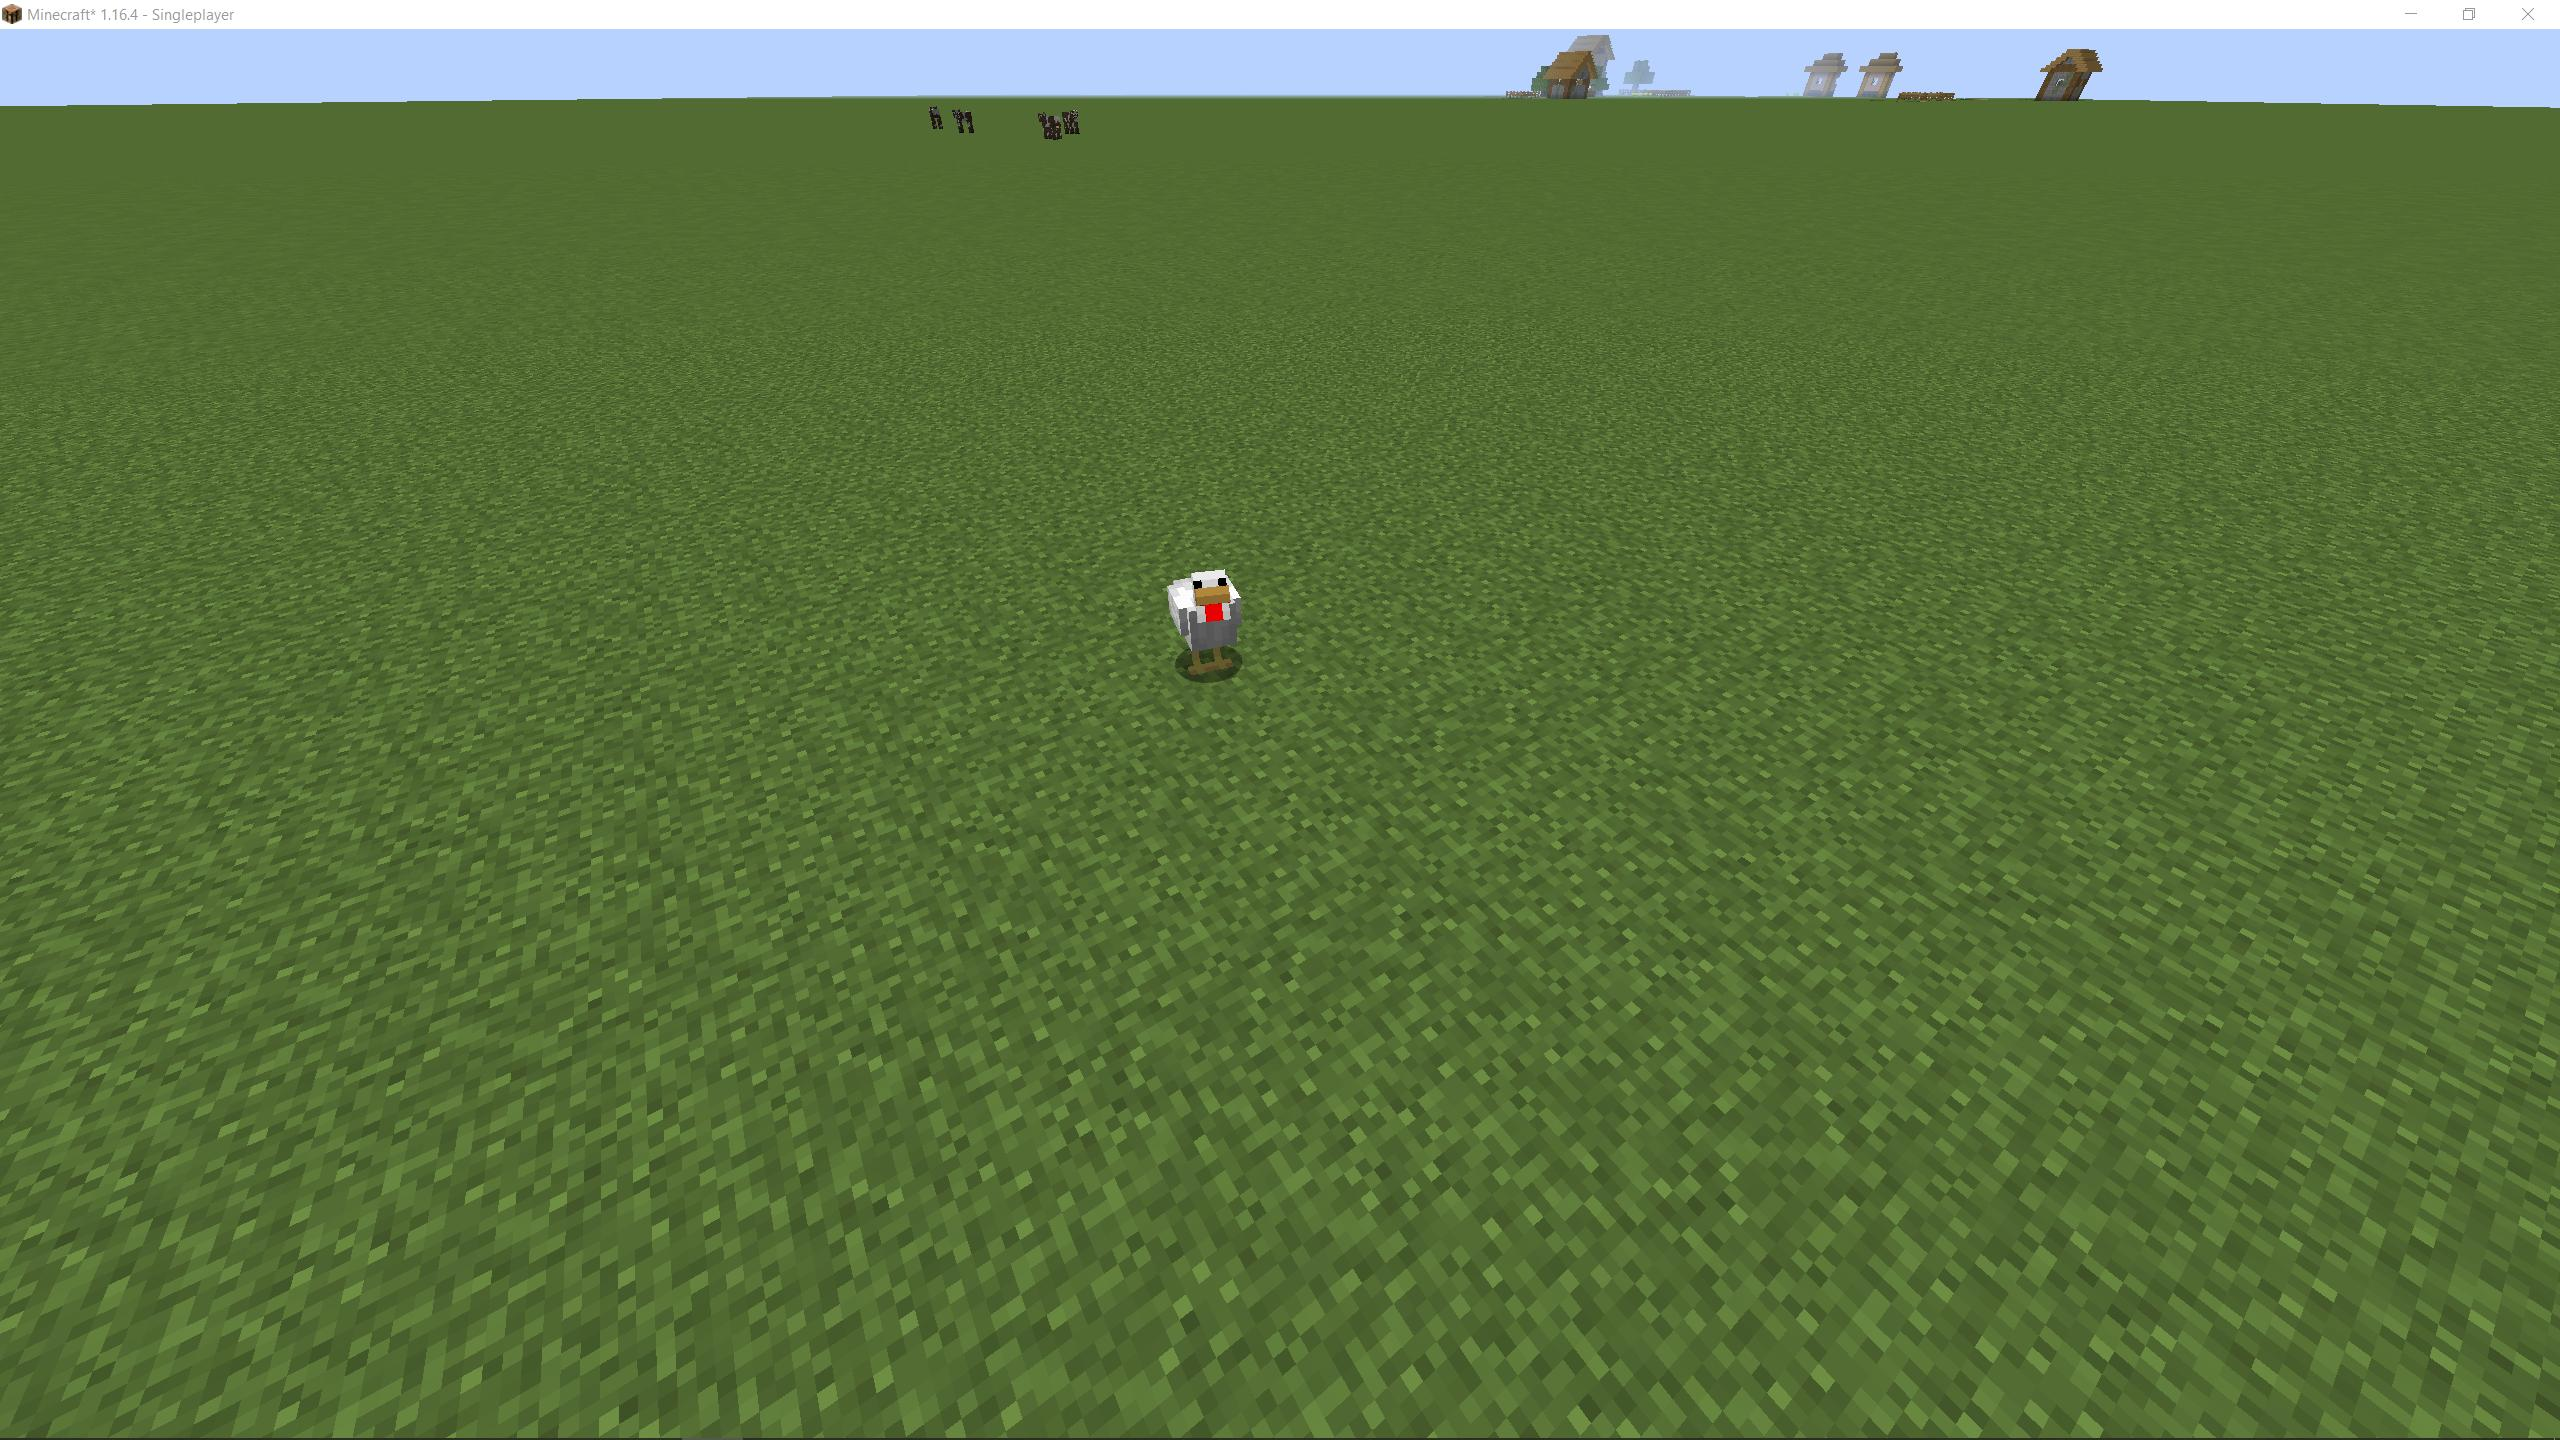chicken: (1157, 563, 1252, 687)
